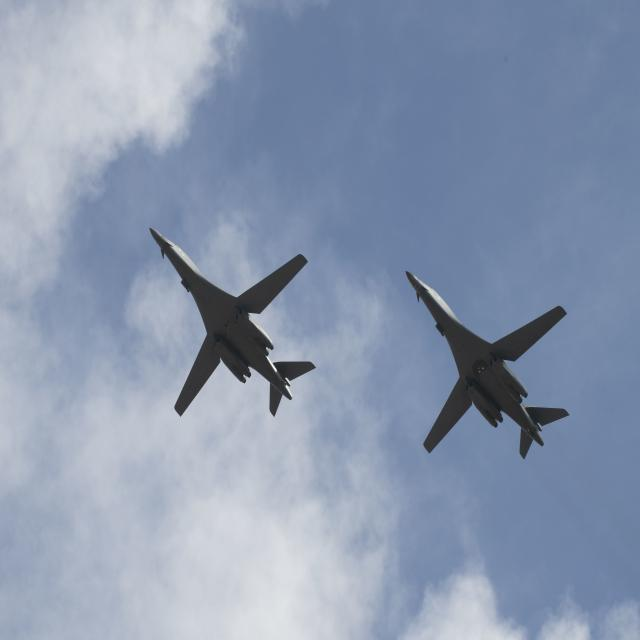MIL_Plane: (181, 260, 284, 385), (437, 303, 538, 428)
